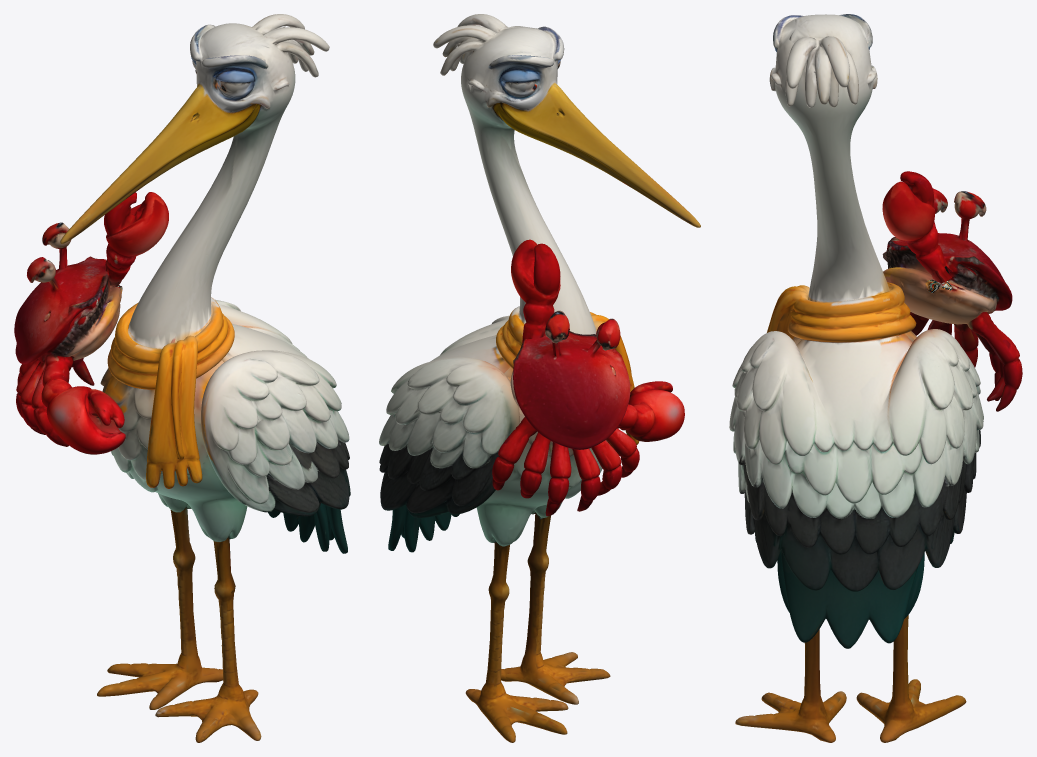
3 renders of one model, left to right at view 1: azimuth 30°, elevation 25°; view 2: azimuth 150°, elevation 25°; view 3: azimuth 270°, elevation 25°, orthographic. The views are drawn at different scales.
Parts seen in each view (by area): view 1: node_0; view 2: node_0; view 3: node_0.
Part boxes in pixels (box(x1,y1,x2,y2)): node_0: box(14, 14, 350, 742); node_0: box(379, 14, 700, 742); node_0: box(729, 14, 1022, 742).
Bounding box in the file's own units: 0.5153 × 1.13 × 0.4207.
Materials: 1 (1 with a texture image).
